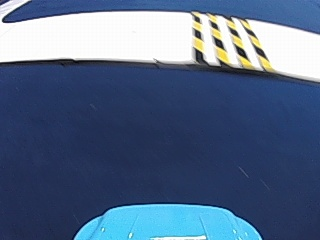bump: (169, 12, 269, 69)
